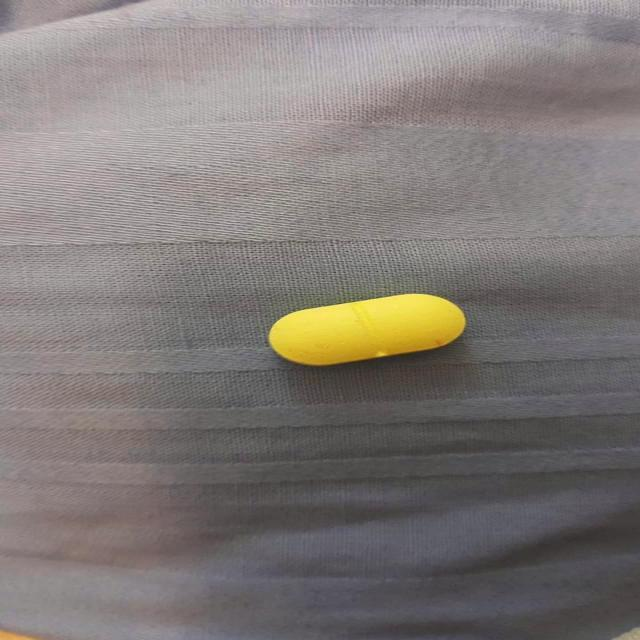pill: (264, 288, 468, 372)
